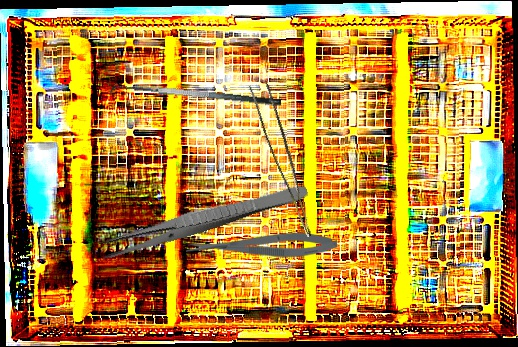Dressing Forceps: (97, 177, 310, 262)
Micro Scissor: (186, 232, 337, 258)
Spatula Surgical: (109, 77, 282, 121)
Tissue Forceps: (244, 78, 329, 238)
